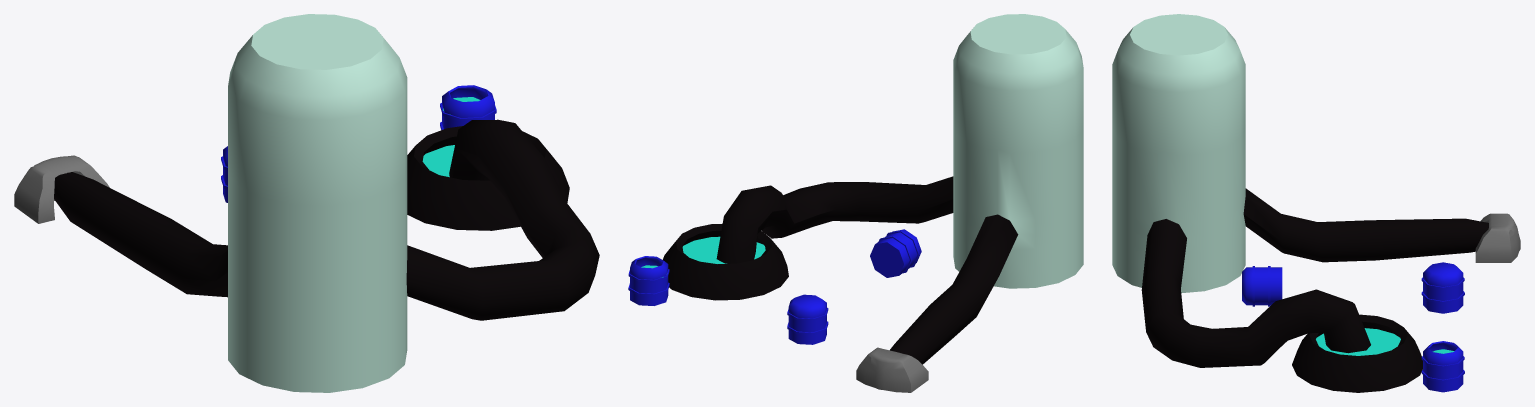
File: Poço.fbx
The picture shows the model from 3 angles, left to right: view 1: azimuth 30°, elevation 25°; view 2: azimuth 150°, elevation 25°; view 3: azimuth 270°, elevation 25°; orthographic projection. The views are drawn at different scales.
Visible parts, largest first — view 1: Cylinder; view 2: Cylinder; view 3: Cylinder.
Boxes of the visible parts, bbox=[...] form: Cylinder: bbox=[14, 14, 599, 392]; Cylinder: bbox=[628, 14, 1083, 392]; Cylinder: bbox=[1112, 14, 1520, 392].
Bounding box in the file's own units: 1225 × 844 × 1333.
